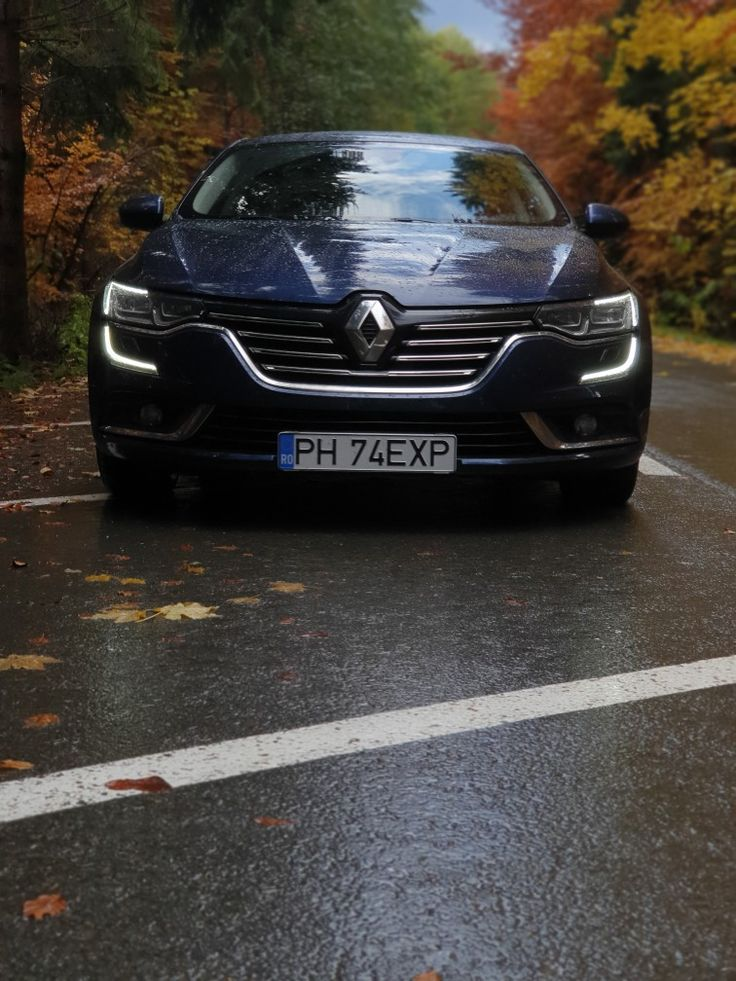plate: (273, 434, 454, 473)
